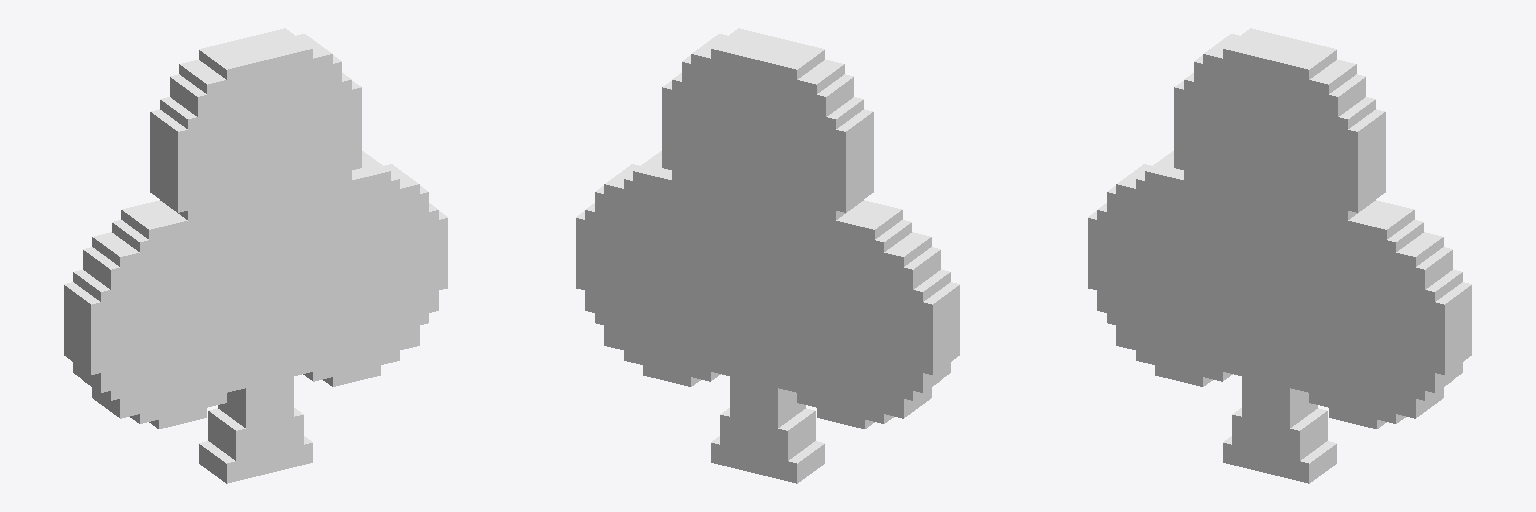
File: Club.obj
3 renders of one model, left to right at view 1: azimuth 30°, elevation 25°; view 2: azimuth 150°, elevation 25°; view 3: azimuth 330°, elevation 25°, orthographic.
Visible parts, largest first — view 1: object 1; view 2: object 1; view 3: object 1.
Boxes of the visible parts, x1,y1,x2,y2 form: object 1: [64, 28, 447, 483]; object 1: [576, 28, 959, 483]; object 1: [1088, 28, 1471, 483].
Size of the model in its own units: 3.7 by 4.1 by 0.5.